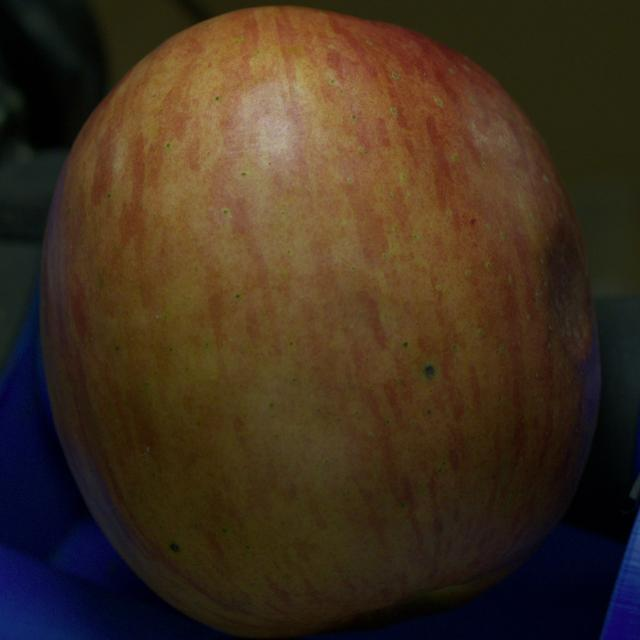apple: (41, 8, 600, 637)
bruise: (540, 228, 600, 374)
pest: (422, 363, 436, 379), (170, 544, 178, 552)
